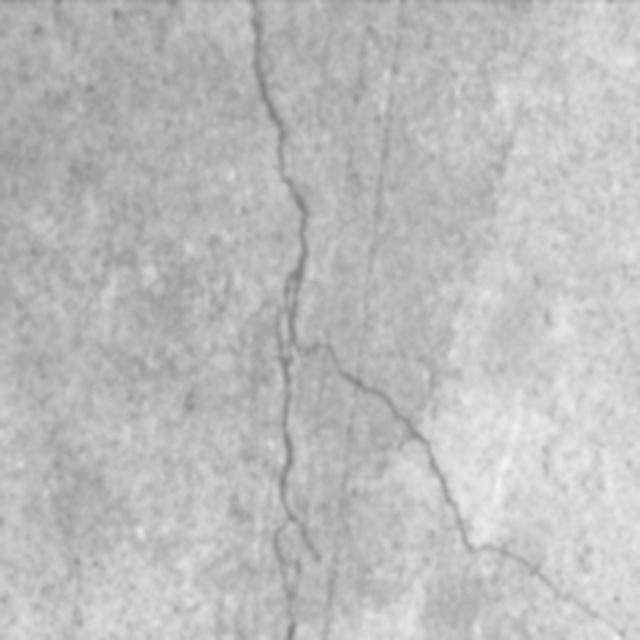SurfaceCrack: (205, 1, 638, 640)
